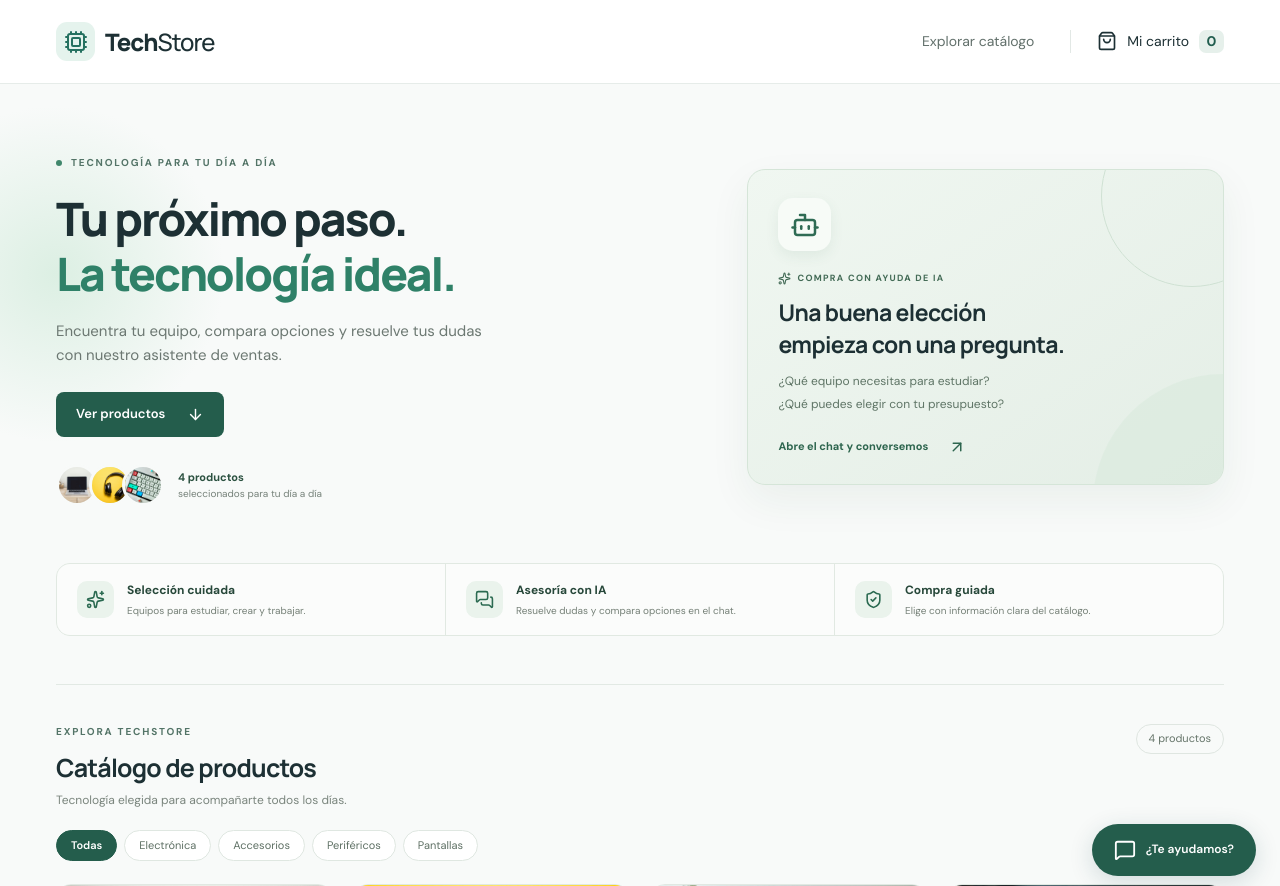
Scenario: Tienda y agente conversacional — sesión 29 › envía el contexto modificado con restricciones de presupuesto
Click the button with aria-label "Abrir asistente".
click(1174, 850)  # box [1092,824,1256,876]
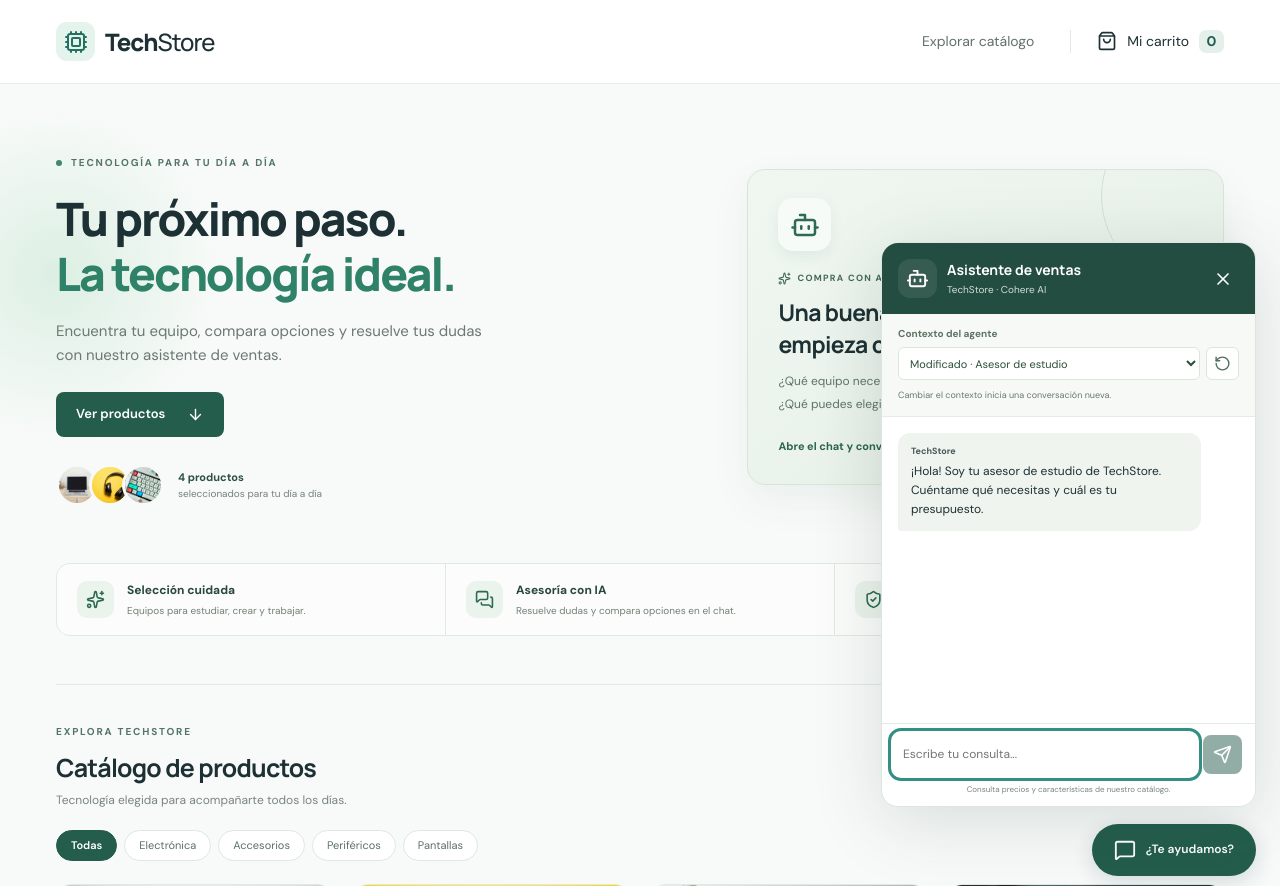
Type "Tengo $100 para un teclado para estudiar." into the field labelled "Escribe tu consulta".
click(1045, 755); type("Tengo $100 para un teclado para estudiar.")  # box [895,735,1195,774]
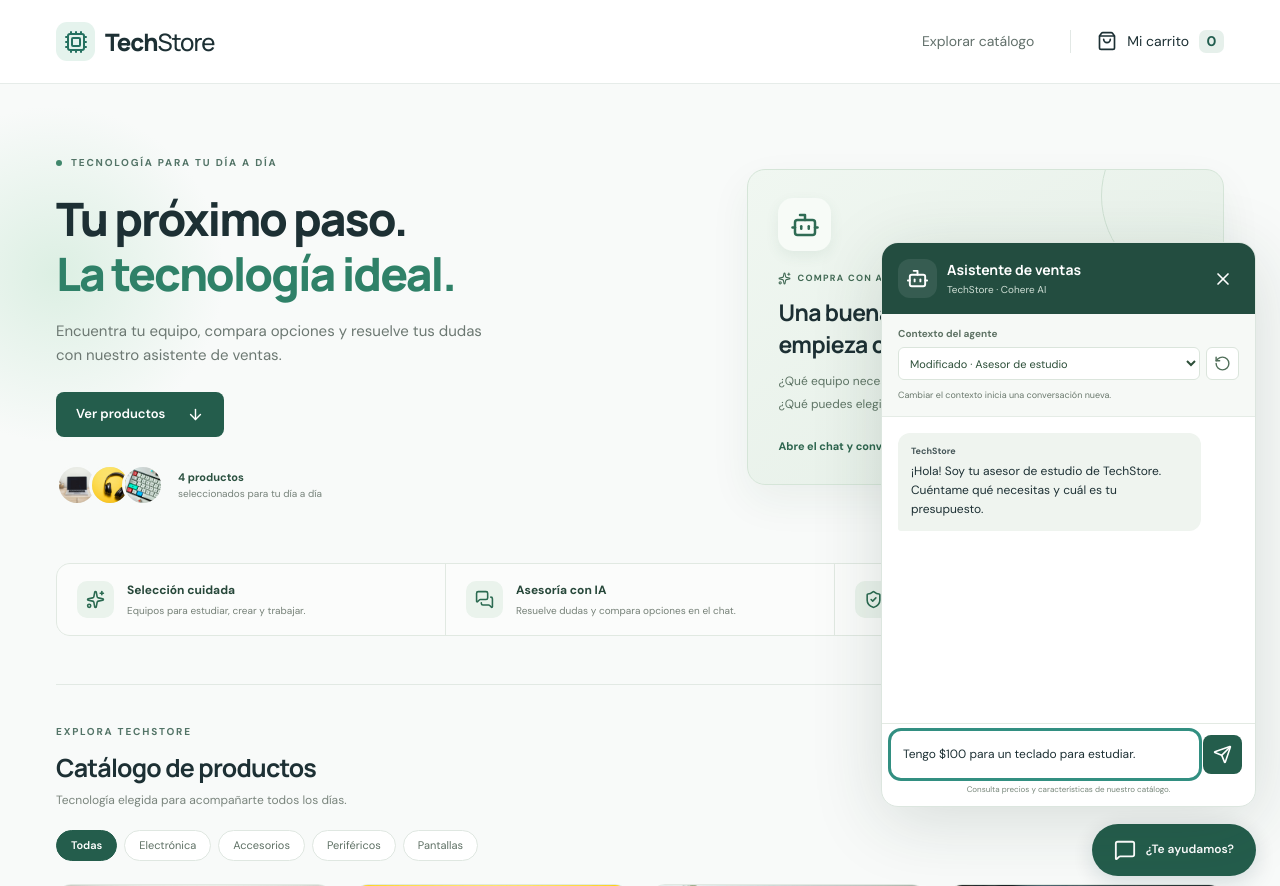
Click the button named "Enviar mensaje".
click(1222, 755)  # box [1203,735,1242,774]
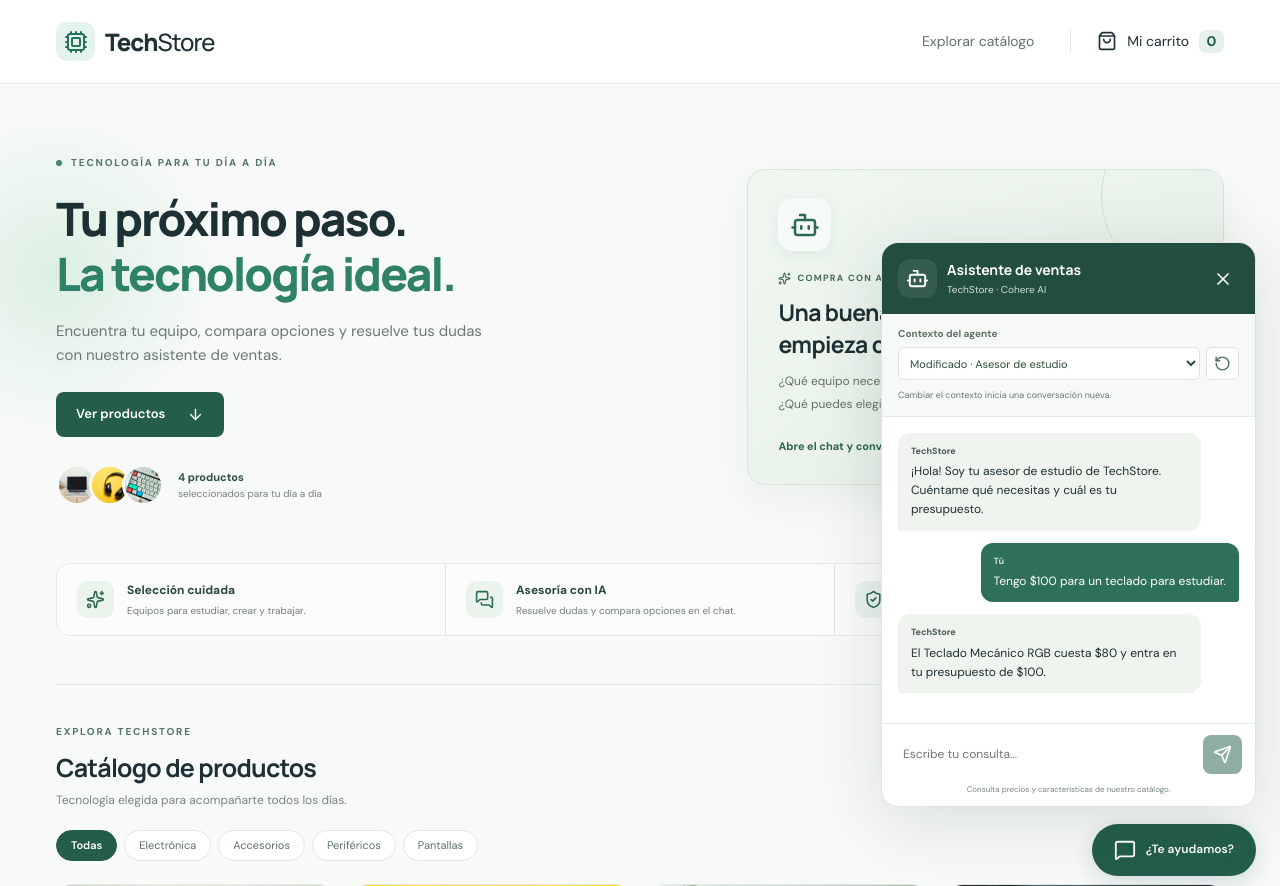
Expected: the text "El Teclado Mecánico RGB cuesta $80 y entra en tu presupuesto de $100." is shown, [911,644,1188,682]
